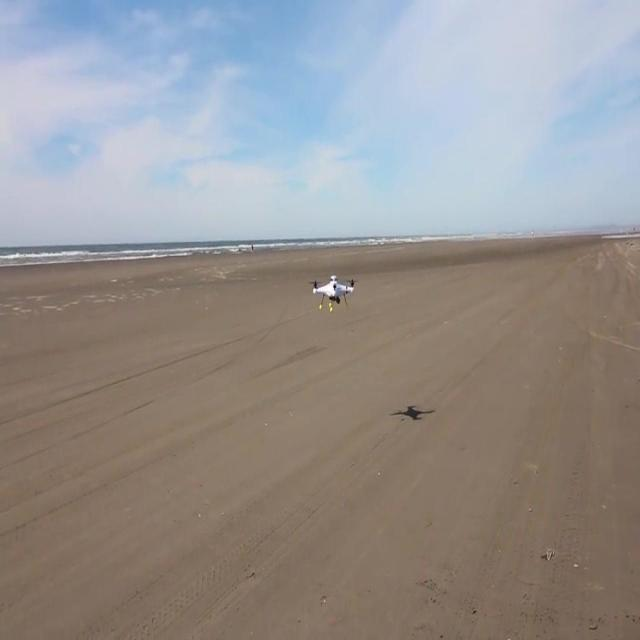drone: (307, 273, 362, 318)
